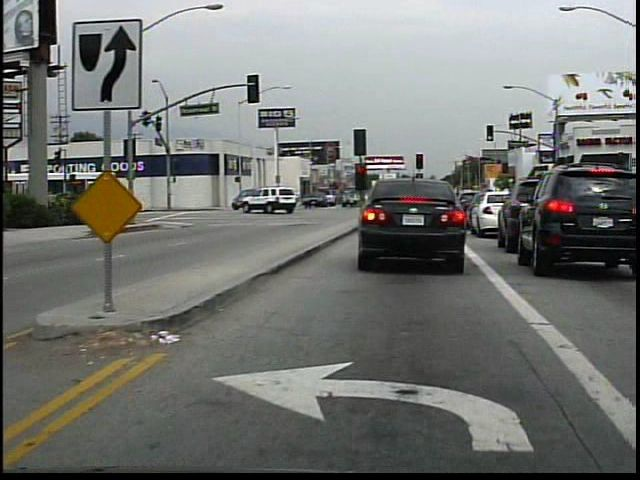person: (92, 189, 113, 225)
